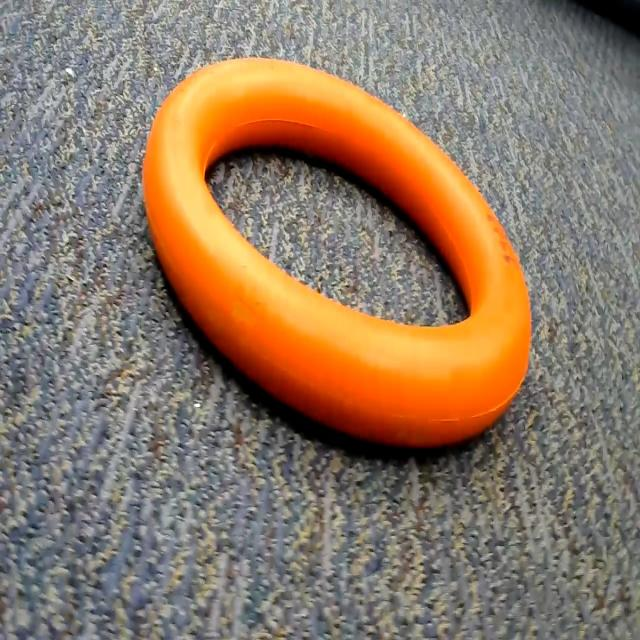note: (138, 43, 559, 471)
